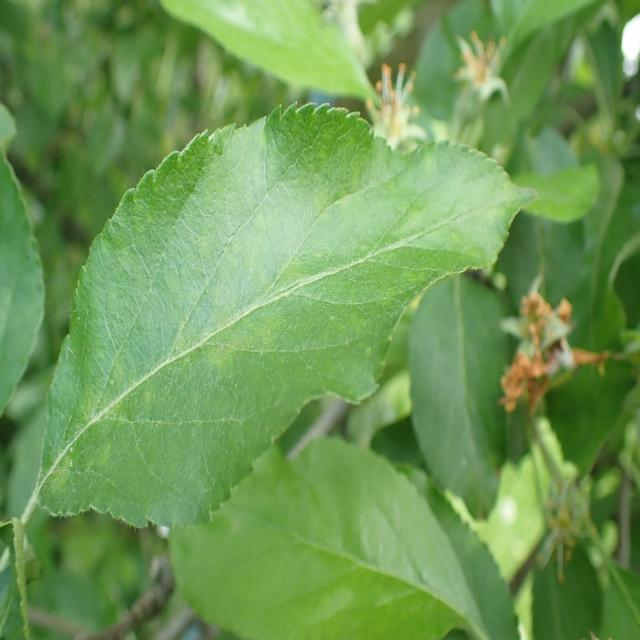scab: (60, 154, 438, 504)
